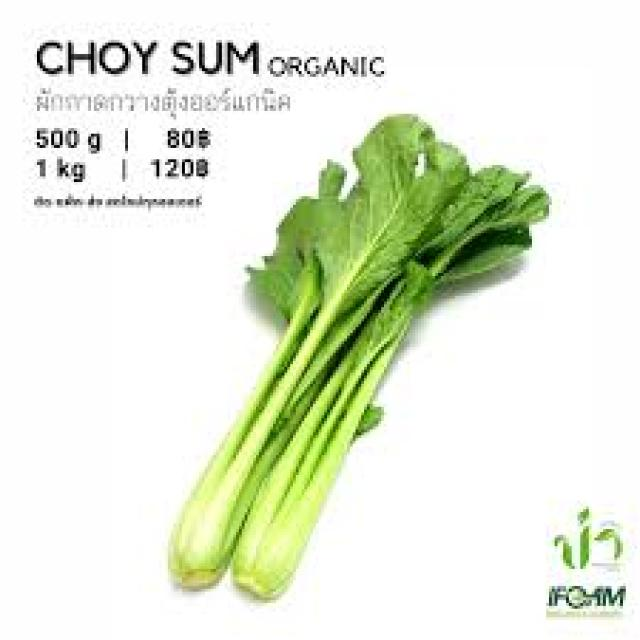bokchoy: (157, 100, 538, 611)
